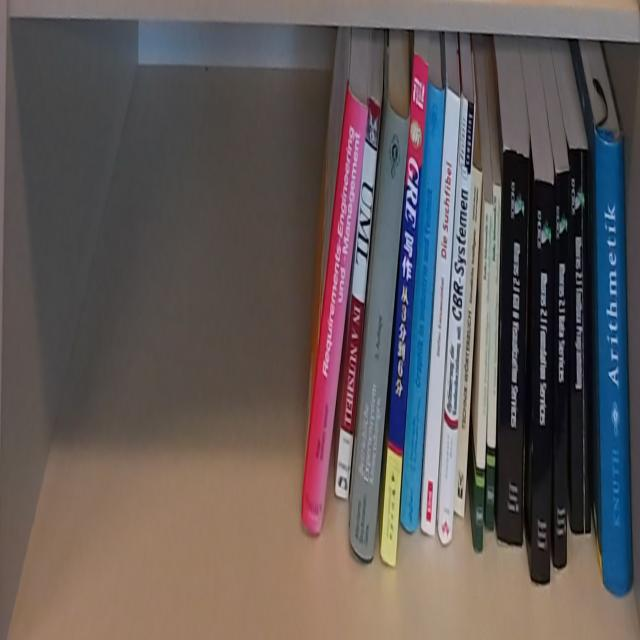Book Spine: (303, 85, 369, 534), (350, 104, 411, 561), (380, 52, 429, 568), (401, 79, 446, 533), (594, 129, 634, 596), (335, 97, 381, 501), (421, 87, 462, 540), (437, 96, 476, 546), (497, 144, 529, 548), (453, 168, 481, 520), (532, 181, 555, 589), (569, 147, 592, 535), (475, 202, 493, 555), (485, 182, 502, 532), (554, 169, 568, 570)
